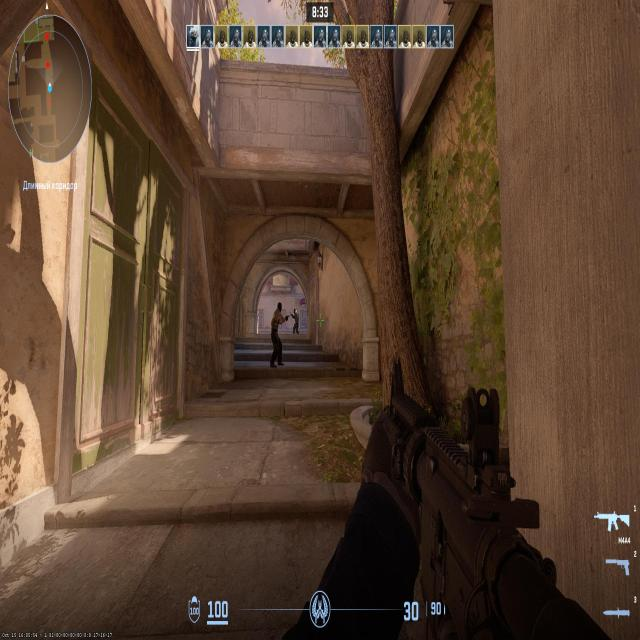CT: (294, 310, 298, 332)
CT_heat: (294, 310, 297, 313)
T: (274, 304, 282, 366)
T_heat: (276, 306, 280, 315)
